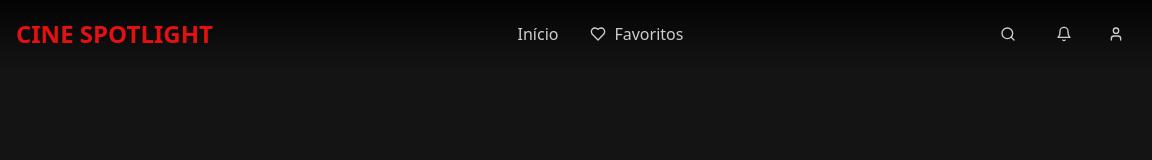
Test: Header Component Coverage Tests › should show search input on desktop when search button is clicked
Click the 1st button.
click(1008, 34)  # box [988, 16, 1028, 52]
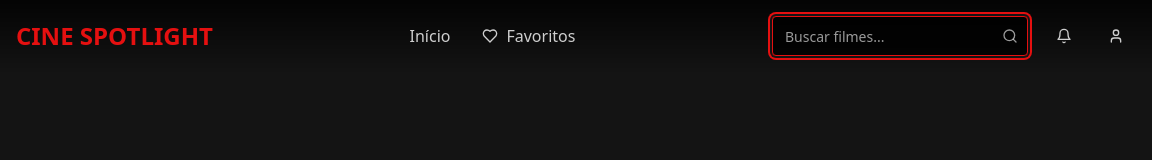
Result: the field with placeholder "Buscar filmes..." is shown at [772, 16, 1028, 56]
